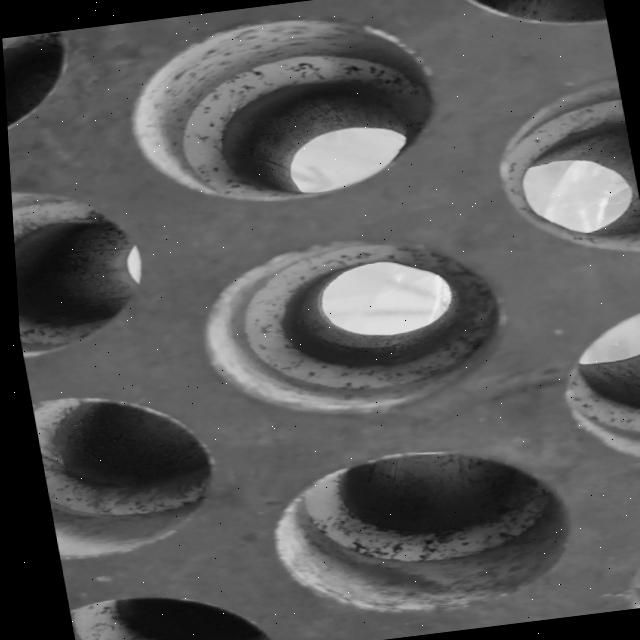Hole: (112, 0, 453, 216), (184, 221, 516, 429), (255, 434, 579, 626), (25, 378, 222, 560), (482, 78, 640, 265), (8, 172, 153, 355), (544, 296, 640, 482), (59, 576, 279, 640), (1, 29, 83, 143), (441, 0, 607, 39), (608, 514, 640, 608)
